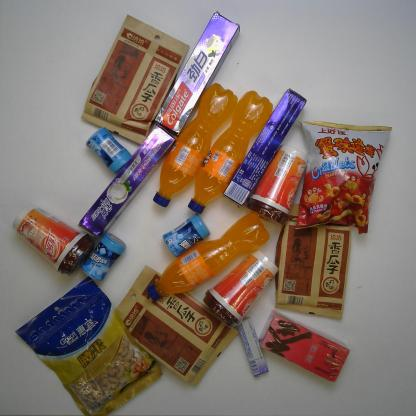Candy: (236, 315, 270, 378)
Dried Food: (115, 265, 240, 387), (79, 13, 192, 146), (276, 202, 352, 321)
Dried Fruit: (16, 275, 163, 416)
Drink: (146, 211, 271, 303), (188, 89, 274, 214), (153, 81, 238, 207)
Gum: (81, 234, 126, 280), (86, 128, 132, 171), (163, 216, 210, 258)
Instant Drink: (260, 312, 349, 382), (203, 249, 279, 328), (13, 202, 94, 274), (245, 142, 309, 224)
Personal Hygiene: (78, 124, 177, 237), (154, 11, 241, 136), (221, 89, 307, 205)
Puffed Food: (296, 117, 394, 233)
